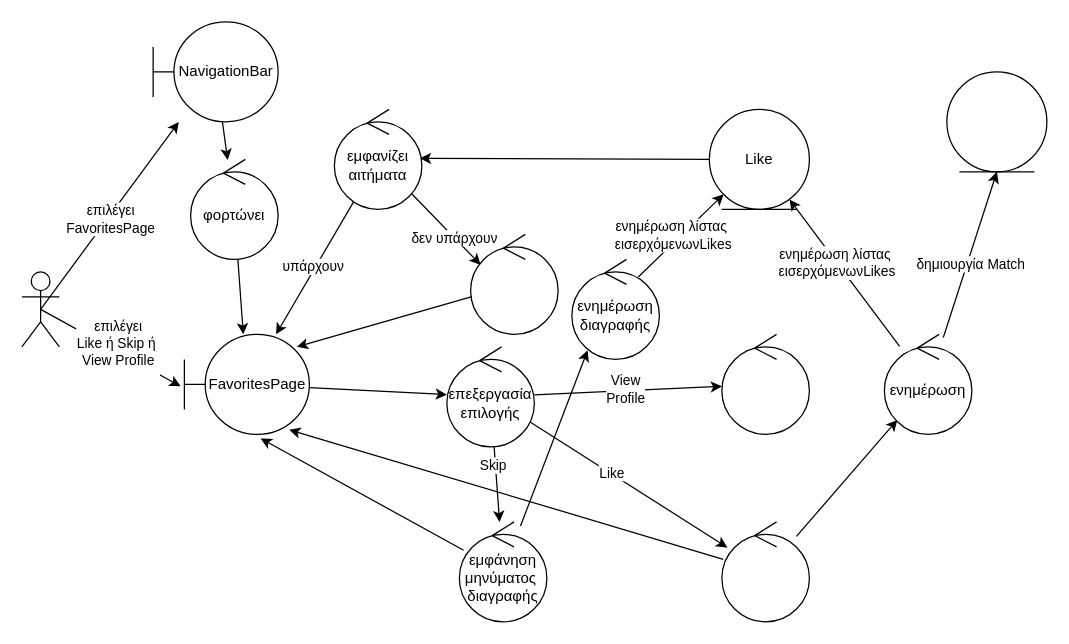
The diagram is 1069 pixels wide and 644 high, and some of its shapes have lost their labels. Here are the shapes that lost their labels. From the top down, the centre of each, then its label:
At point (996, 121): "Match".
At point (513, 283): "ενημέρωση οτι δεν υπάρχουν νέα".
At point (40, 309): "User".
At point (765, 383): "έναρξη Π.Χ9".
At point (765, 571): "εμφάνηση μηνυματος επιβεβαίωσης αποδοχής".
